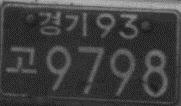3: (118, 12, 138, 40)
7: (75, 44, 104, 94)
8: (141, 48, 168, 99)
9: (108, 47, 135, 96), (44, 45, 71, 92), (95, 12, 114, 38)
경기_O: (38, 11, 89, 36)
고: (5, 46, 37, 75)
